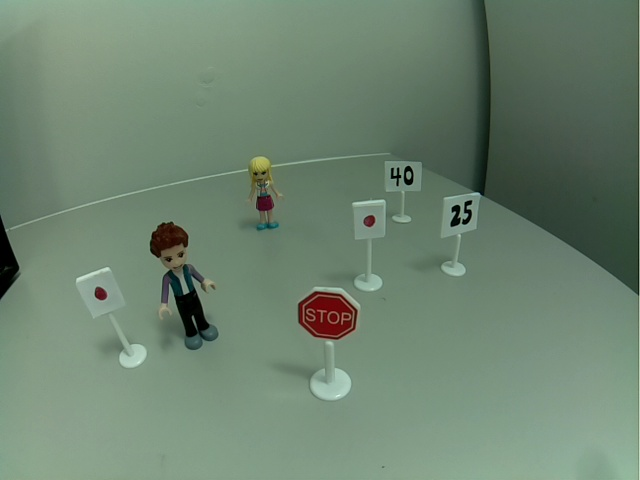people: (145, 221, 223, 350), (244, 156, 285, 233)
red light: (74, 266, 128, 319), (352, 199, 388, 241)
speed 25: (440, 192, 481, 239)
speed 40: (383, 159, 425, 193)
stop: (294, 283, 361, 342)
